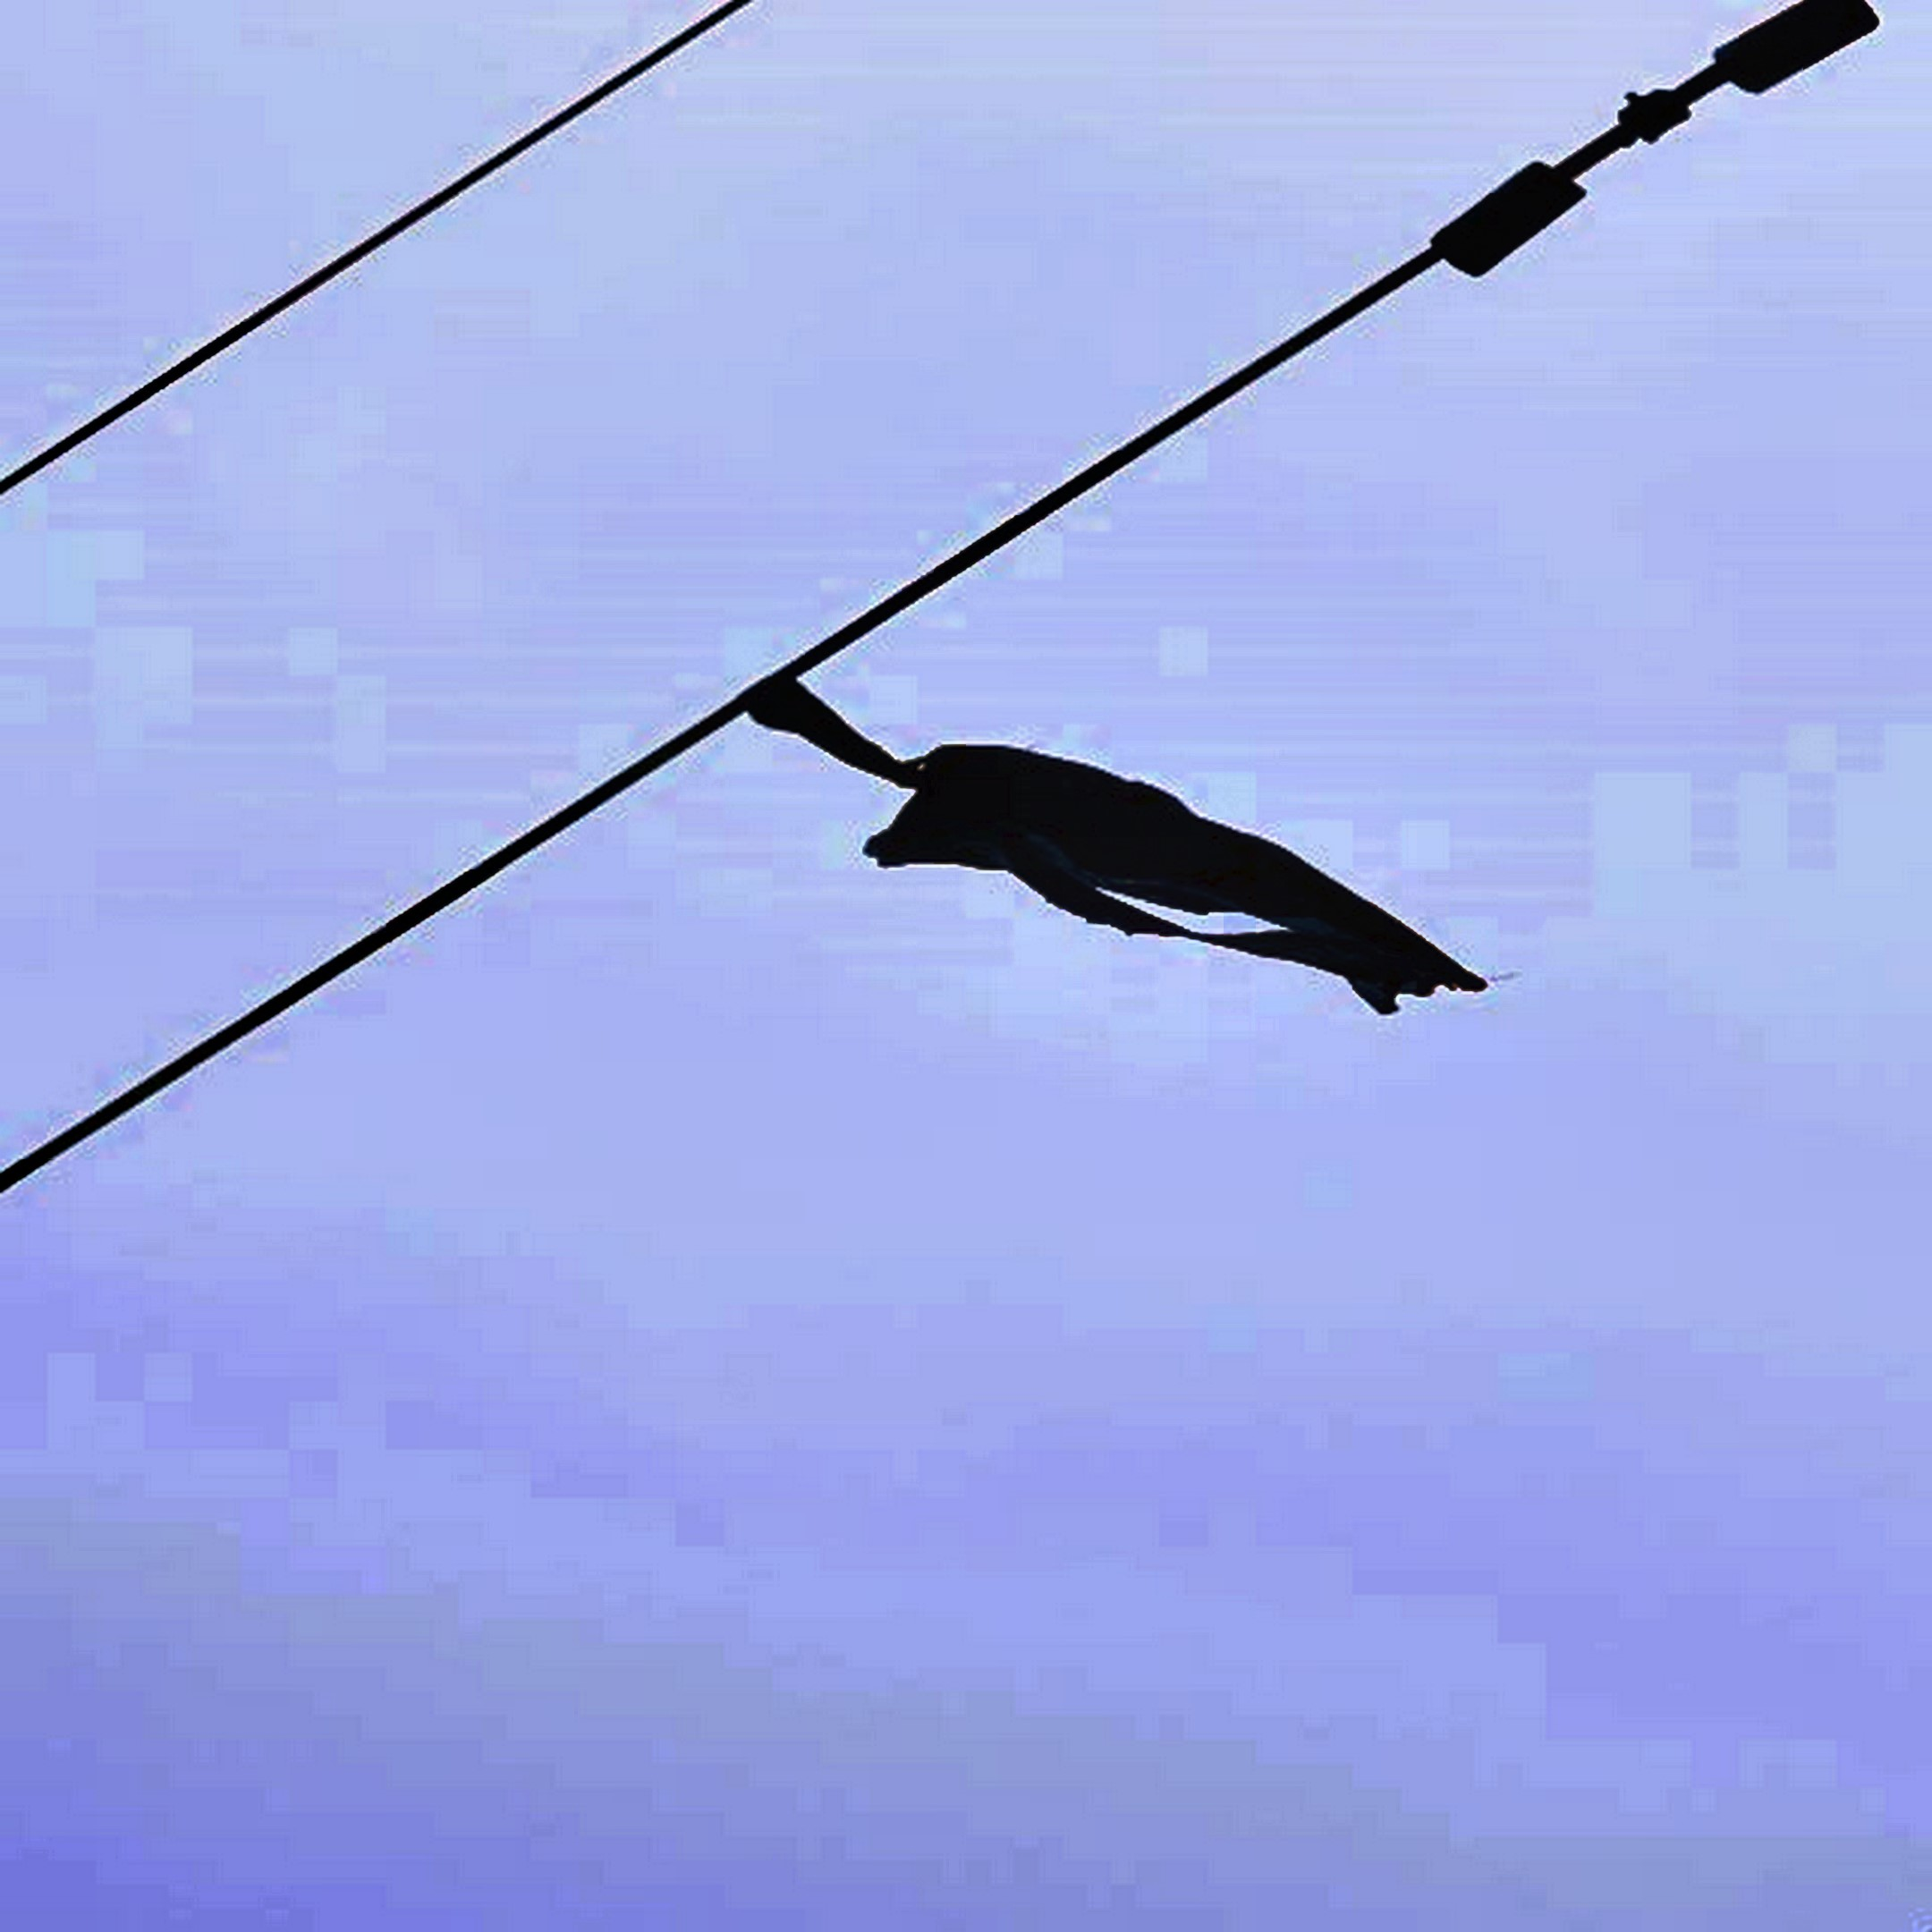wire foreign body: (709, 639, 1499, 1035)
